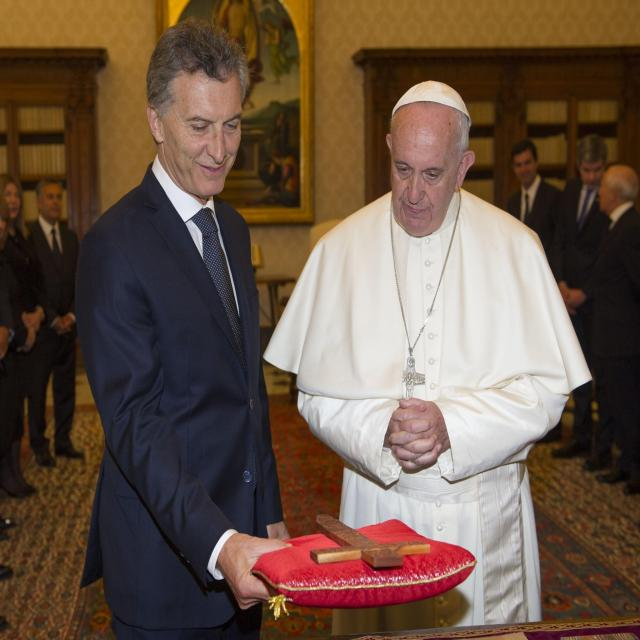body: (257, 75, 599, 640), (76, 13, 306, 640), (178, 0, 302, 210), (552, 135, 614, 482), (23, 176, 85, 468), (592, 159, 640, 500), (0, 173, 44, 497), (505, 136, 563, 284), (0, 514, 22, 637), (2, 191, 20, 234)
